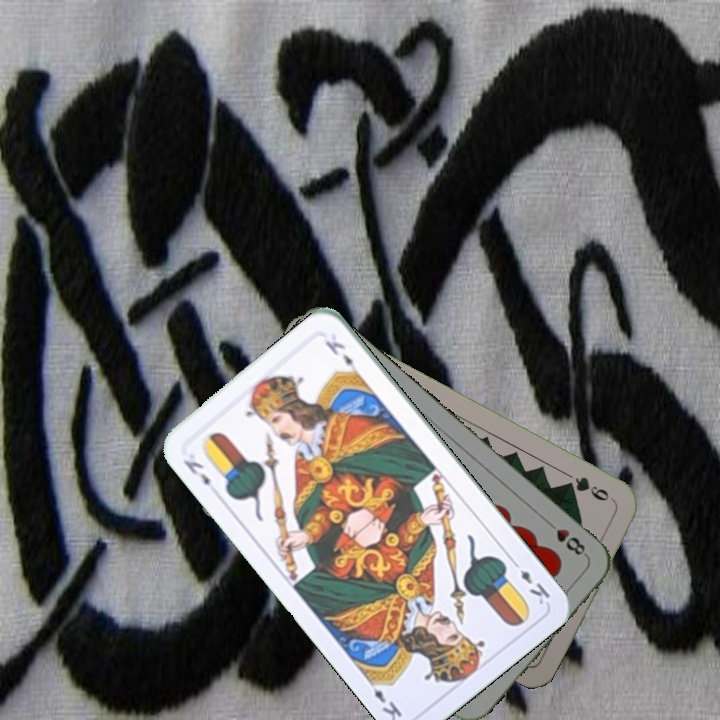EK: (507, 556, 553, 608), (179, 455, 213, 489)
G9: (560, 472, 612, 504)
H8: (541, 516, 590, 560)
